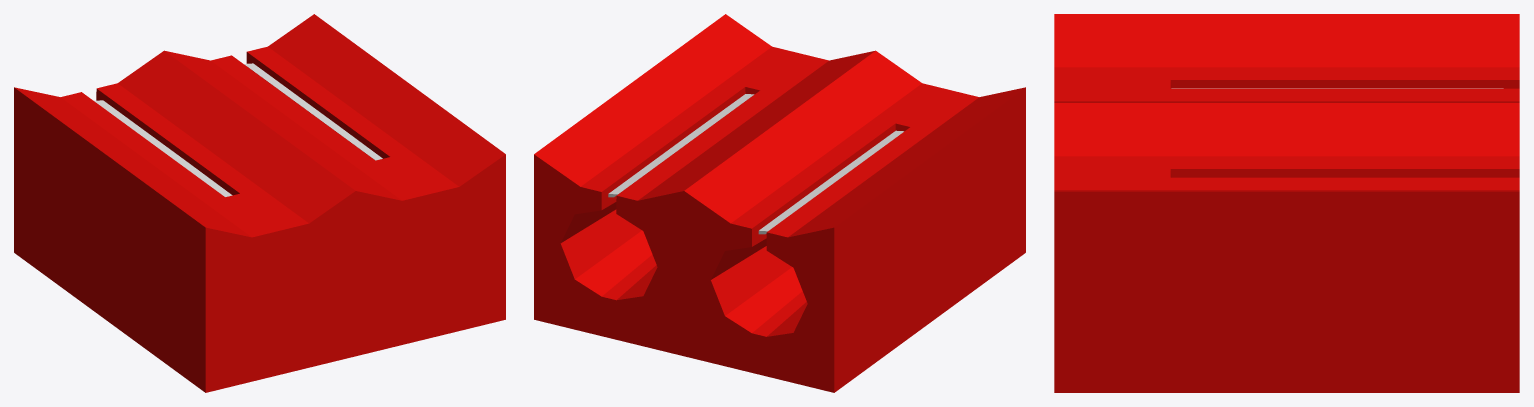
The model's file is sharpener.glb.
3 views of the same model, side by side, from view 1: azimuth 30°, elevation 25°; view 2: azimuth 150°, elevation 25°; view 3: azimuth 270°, elevation 25° (orthographic). The views are drawn at different scales.
Parts seen in each view (by area): view 1: Cube.008; view 2: Cube.008; view 3: Cube.008.
Boxes of the visible parts, bbox=[...] form: Cube.008: bbox=[14, 14, 505, 392]; Cube.008: bbox=[534, 14, 1025, 392]; Cube.008: bbox=[1054, 14, 1519, 392].
Bounding box in the file's own units: 2.28 × 1.2 × 2.52.
